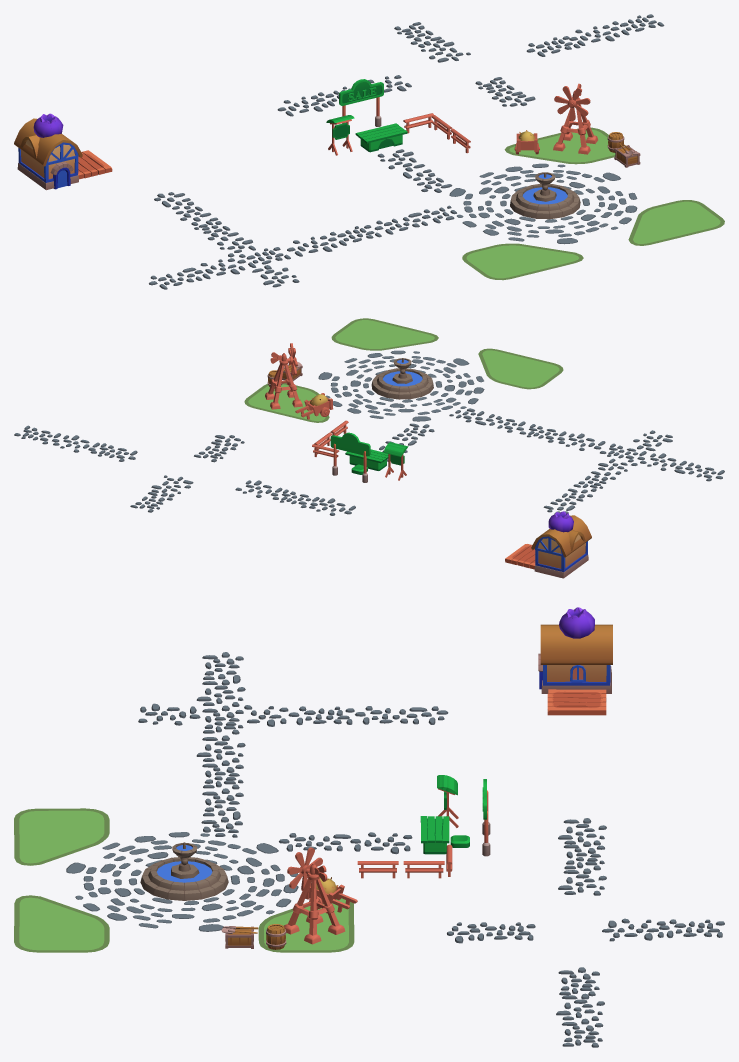
File: Map Unity .fbx
3 views of the same model, one above another, from view 1: azimuth 30°, elevation 25°; view 2: azimuth 150°, elevation 25°; view 3: azimuth 270°, elevation 25° (orthographic). The views are drawn at different scales.
Visible parts, largest first — view 1: Plane.022, Cube.023, Circle.020, Rocks.028, Cube.030, Cylinder.050, Cube.027, Rocks.023, Rocks.021, Rocks.024, Cylinder.059, Cube.028 (+2 smaller); view 2: Plane.022, Cube.023, Circle.020, Cylinder.050, Cube.030, Rocks.028, Rocks.023, Rocks.021, Rocks.024, Cube.026, Cube.027, Cube.028; view 3: Plane.022, Cube.023, Circle.020, Cylinder.050, Rocks.028, Rocks.021, Rocks.023, Rocks.024, Cube.027, Cube.026.
Part boxes in pixels (x1=…): Plane.022: x1=462, y1=127, x2=724, y2=280; Cube.023: x1=14, y1=113, x2=112, y2=190; Circle.020: x1=510, y1=183, x2=580, y2=219; Rocks.028: x1=449, y1=163, x2=637, y2=244; Cube.030: x1=339, y1=79, x2=383, y2=126; Cylinder.050: x1=553, y1=83, x2=597, y2=154; Cube.027: x1=355, y1=123, x2=407, y2=152; Rocks.023: x1=478, y1=173, x2=617, y2=233; Rocks.021: x1=463, y1=170, x2=626, y2=237; Rocks.024: x1=485, y1=179, x2=604, y2=228; Cylinder.059: x1=554, y1=86, x2=590, y2=120; Cube.028: x1=326, y1=115, x2=354, y2=155; Plane.022: x1=244, y1=318, x2=563, y2=422; Cube.023: x1=505, y1=511, x2=591, y2=578; Circle.020: x1=371, y1=368, x2=433, y2=399; Cylinder.050: x1=265, y1=352, x2=302, y2=409; Cube.030: x1=330, y1=432, x2=370, y2=482; Rocks.028: x1=318, y1=350, x2=484, y2=421; Rocks.023: x1=342, y1=359, x2=466, y2=412; Rocks.021: x1=330, y1=356, x2=474, y2=415; Rocks.024: x1=350, y1=364, x2=454, y2=407; Cube.026: x1=295, y1=393, x2=333, y2=419; Cube.027: x1=345, y1=449, x2=388, y2=470; Cube.028: x1=383, y1=442, x2=408, y2=480; Plane.022: x1=14, y1=808, x2=354, y2=952; Cube.023: x1=538, y1=607, x2=612, y2=715; Circle.020: x1=140, y1=857, x2=228, y2=900; Cylinder.050: x1=284, y1=863, x2=345, y2=944; Rocks.028: x1=66, y1=832, x2=298, y2=931; Rocks.021: x1=83, y1=839, x2=284, y2=923; Rocks.023: x1=98, y1=843, x2=274, y2=918; Rocks.024: x1=112, y1=851, x2=256, y2=911; Cube.027: x1=420, y1=816, x2=449, y2=854; Cube.026: x1=305, y1=877, x2=357, y2=912.
Bounding box in the file's own units: 13.99 × 1.4 × 10.65.
